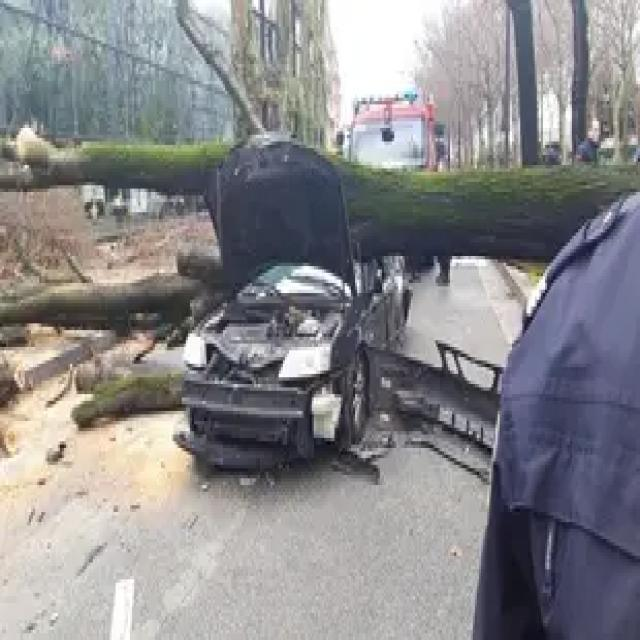accident: (159, 74, 426, 478)
